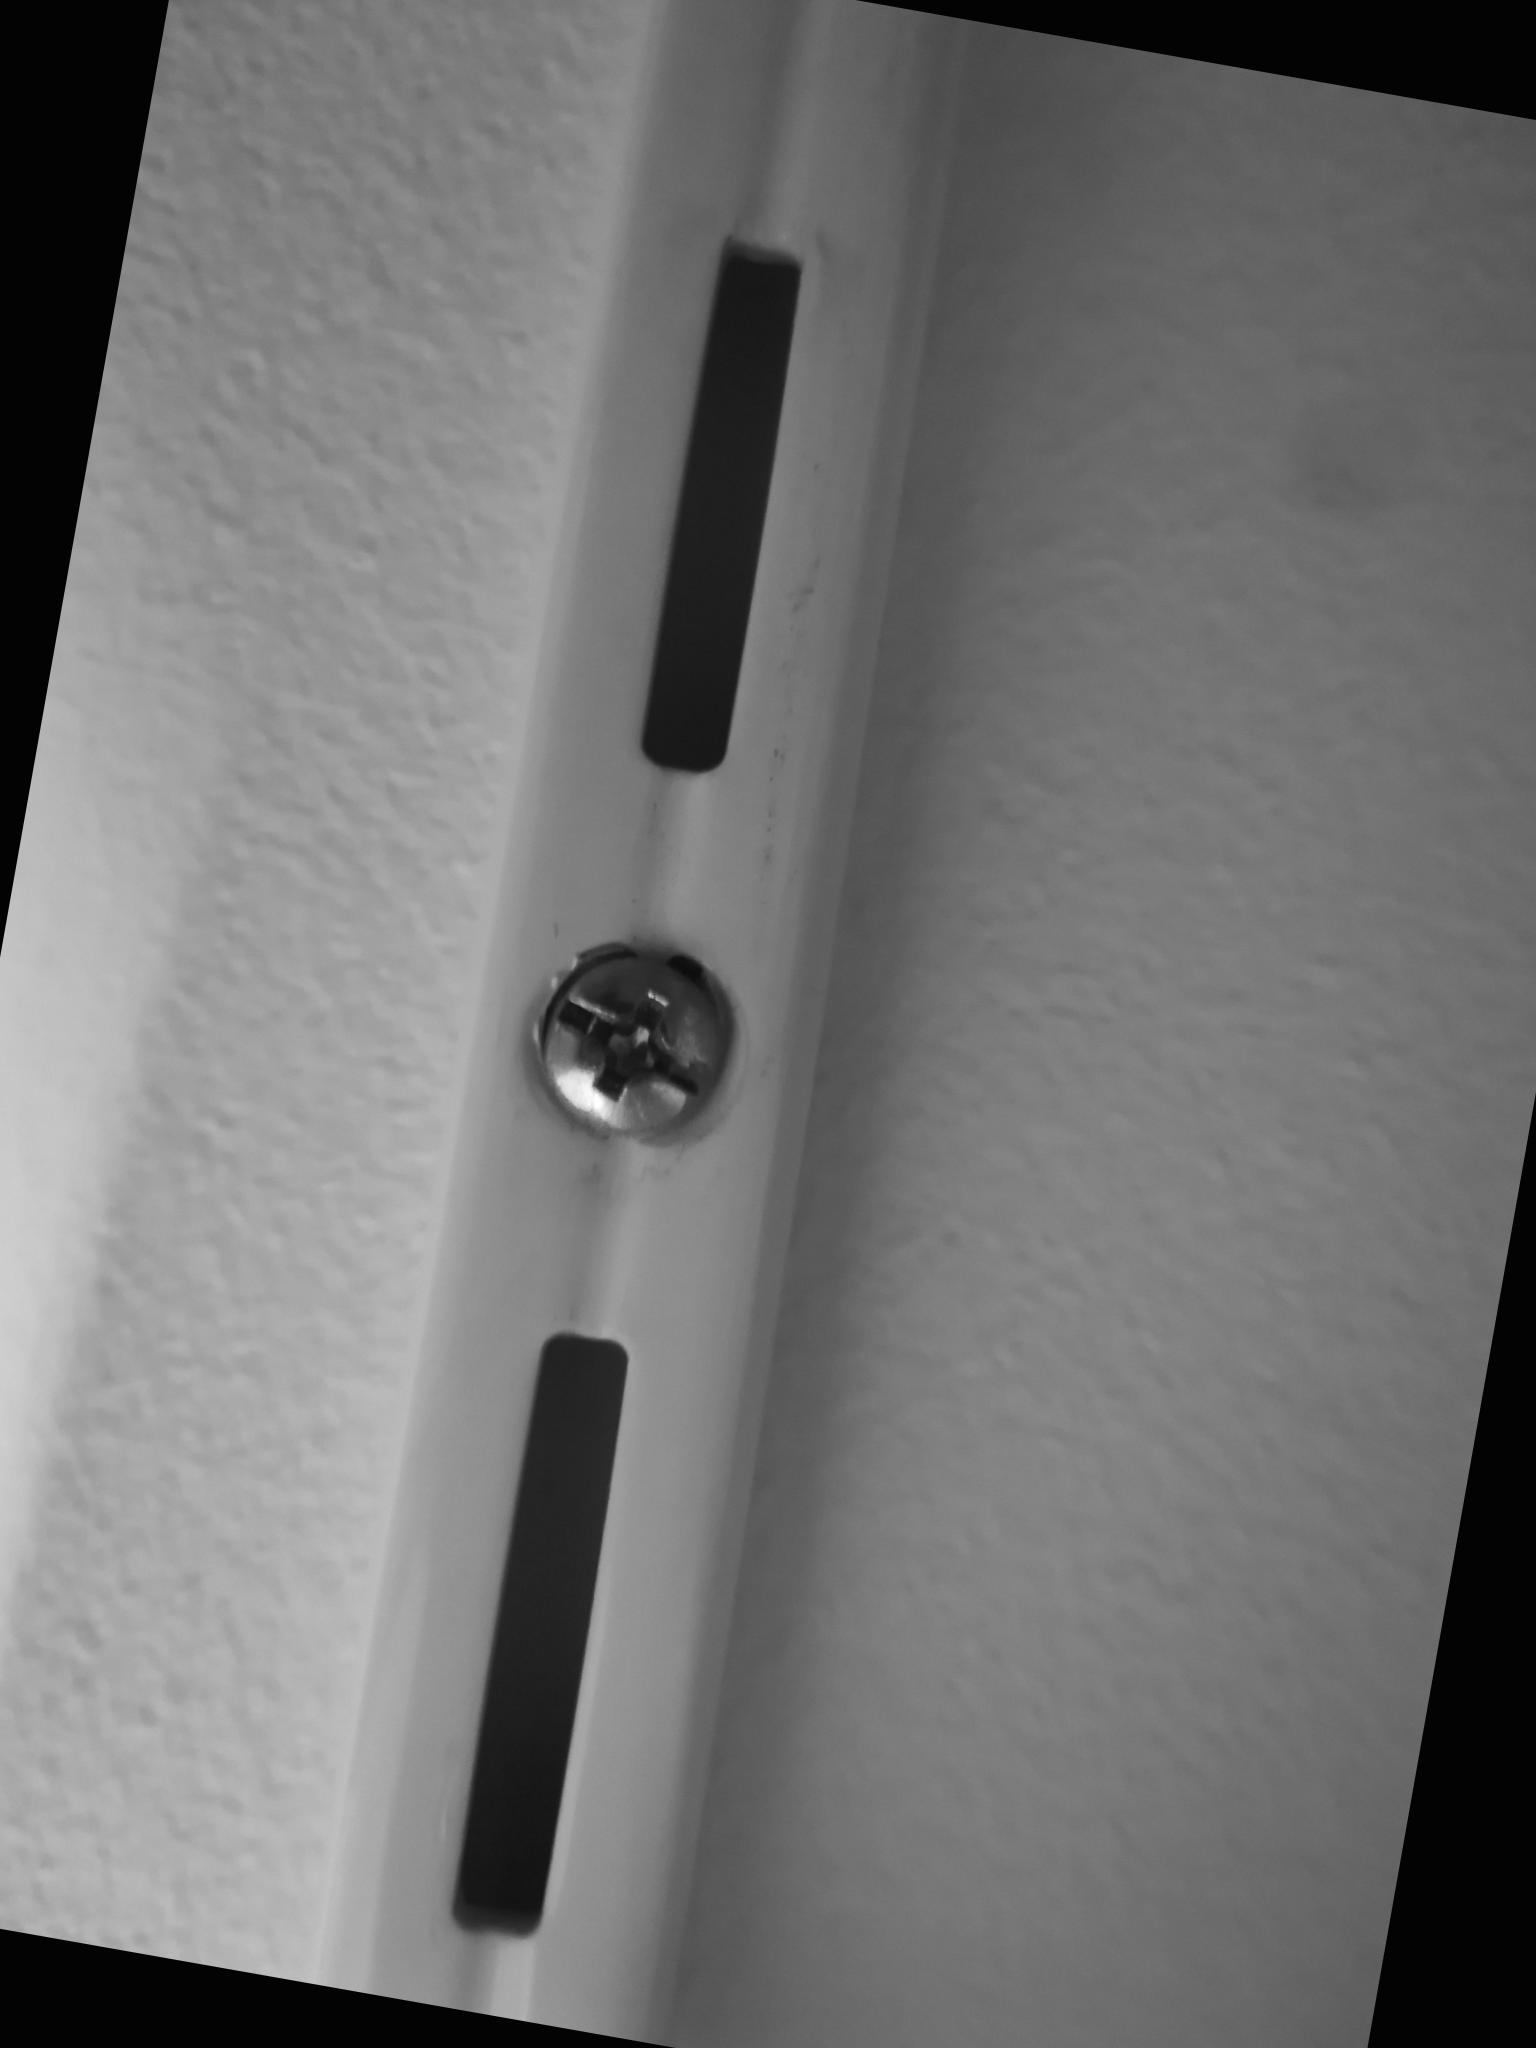philips-PZ: (507, 921, 758, 1168)
